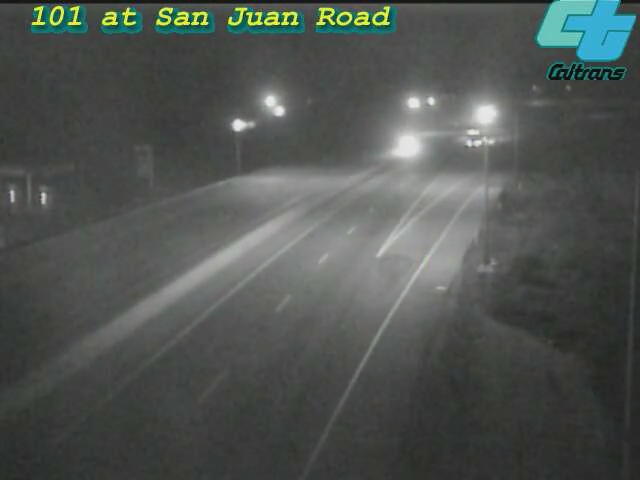vehicle: (384, 119, 434, 169), (459, 89, 509, 139), (449, 115, 499, 165)
